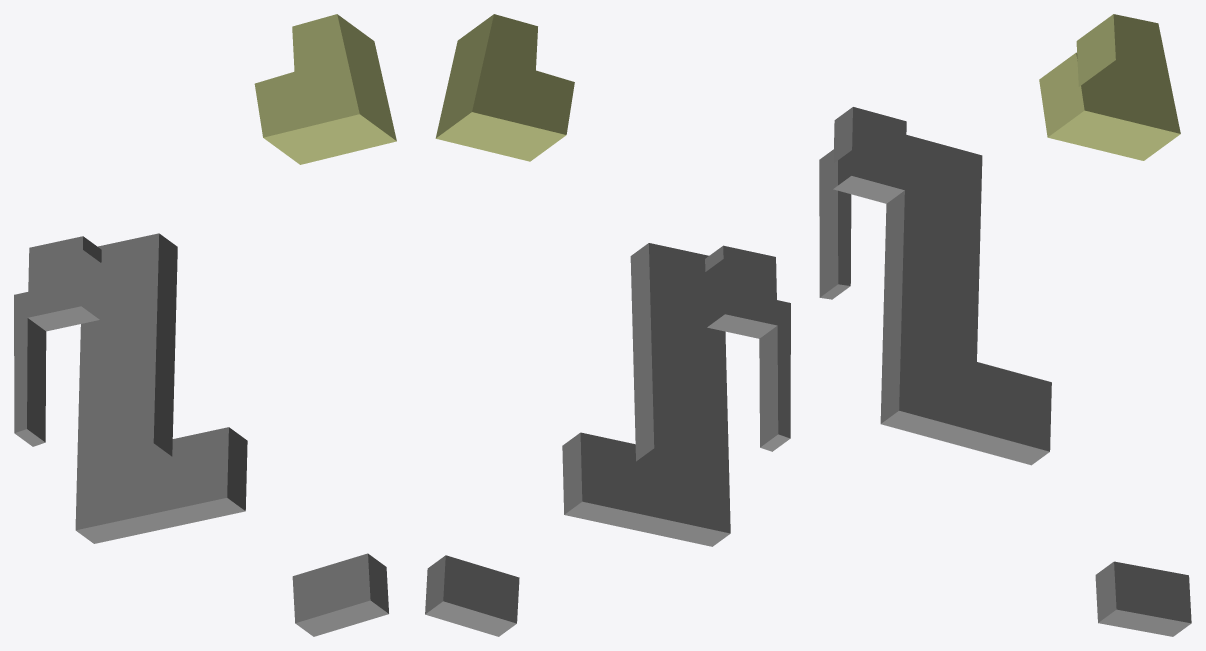
3 renders of one model, left to right at view 1: azimuth 30°, elevation 25°; view 2: azimuth 150°, elevation 25°; view 3: azimuth 330°, elevation 25°, orthographic. The views are drawn at different scales.
Parts seen in each view (by area): view 1: 0_3_0_1_2_2_2_3_1; view 2: 0_3_0_1_2_2_2_3_1; view 3: 0_3_0_1_2_2_2_3_1.
Part boxes in pixels (x1,y1,x2,y2): 0_3_0_1_2_2_2_3_1: (14,14,396,636); 0_3_0_1_2_2_2_3_1: (425,14,790,636); 0_3_0_1_2_2_2_3_1: (819,14,1191,636).
Bounding box in the file's own units: 33.13 × 53.28 × 6.1.
